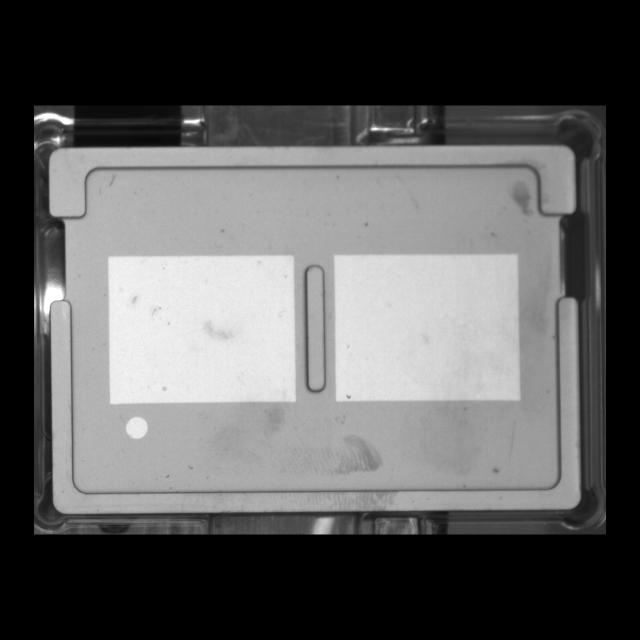door: (40, 139, 589, 232)
point: (116, 407, 156, 448)
